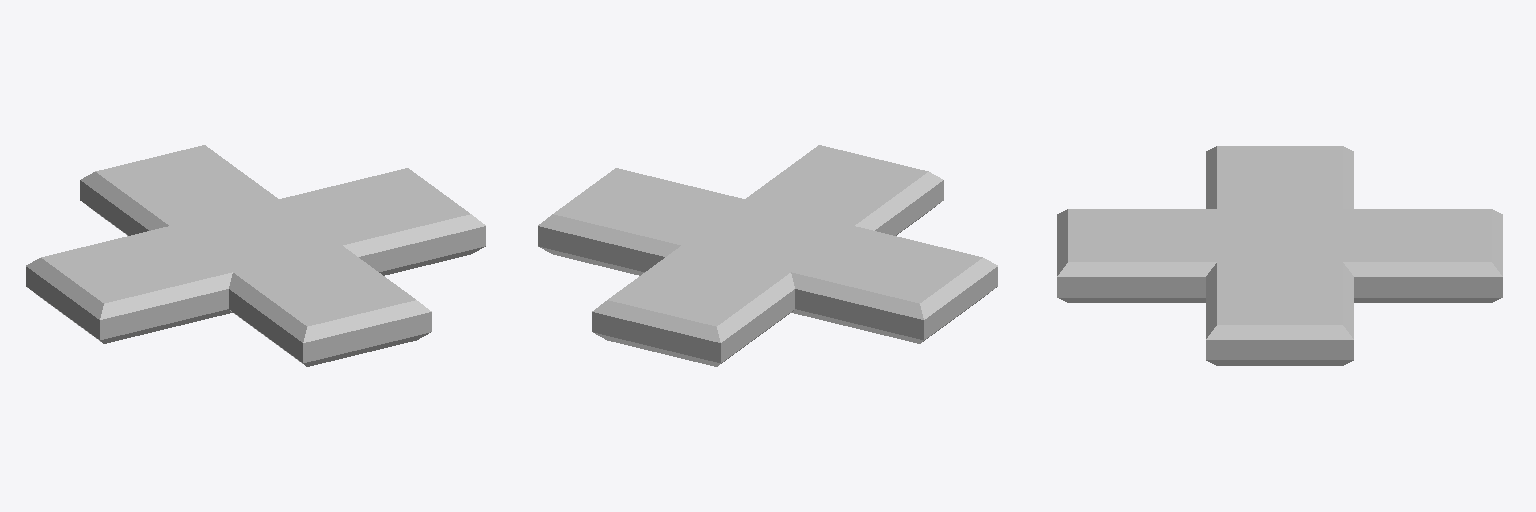
The model's file is PropellerCheckpoint.obj.
3 renders of one model, left to right at view 1: azimuth 30°, elevation 25°; view 2: azimuth 150°, elevation 25°; view 3: azimuth 270°, elevation 25°, orthographic.
Parts seen in each view (by area): view 1: pCube3, pCube4; view 2: pCube4, pCube3; view 3: pCube3, pCube4.
Boxes of the visible parts, x1=… form: pCube3: x1=80, y1=145, x2=431, y2=366; pCube4: x1=26, y1=168, x2=485, y2=343; pCube4: x1=538, y1=168, x2=997, y2=343; pCube3: x1=592, y1=145, x2=943, y2=366; pCube3: x1=1057, y1=209, x2=1502, y2=302; pCube4: x1=1206, y1=146, x2=1353, y2=365.
Bounding box in the file's own units: 1.5 × 0.15 × 1.5.